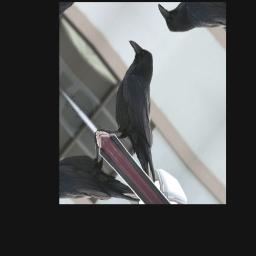Crow: (76, 33, 207, 191)
